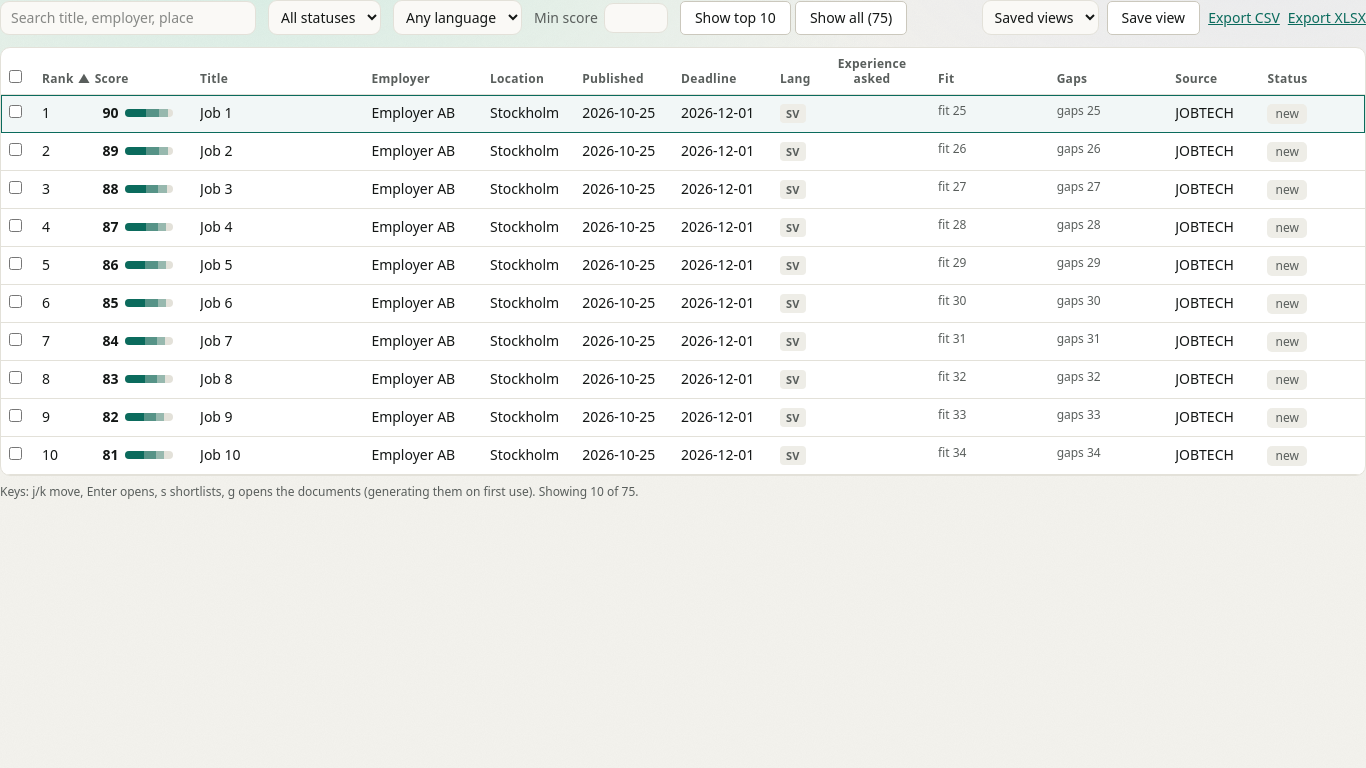
Test case: results table › shows the top N by default and all on request, repeatedly, with a counter that matches
The width and height of the screenshot is (1366, 768).
Click the button "Show all (75)": {"x": 851, "y": 18} [795, 0, 907, 34]
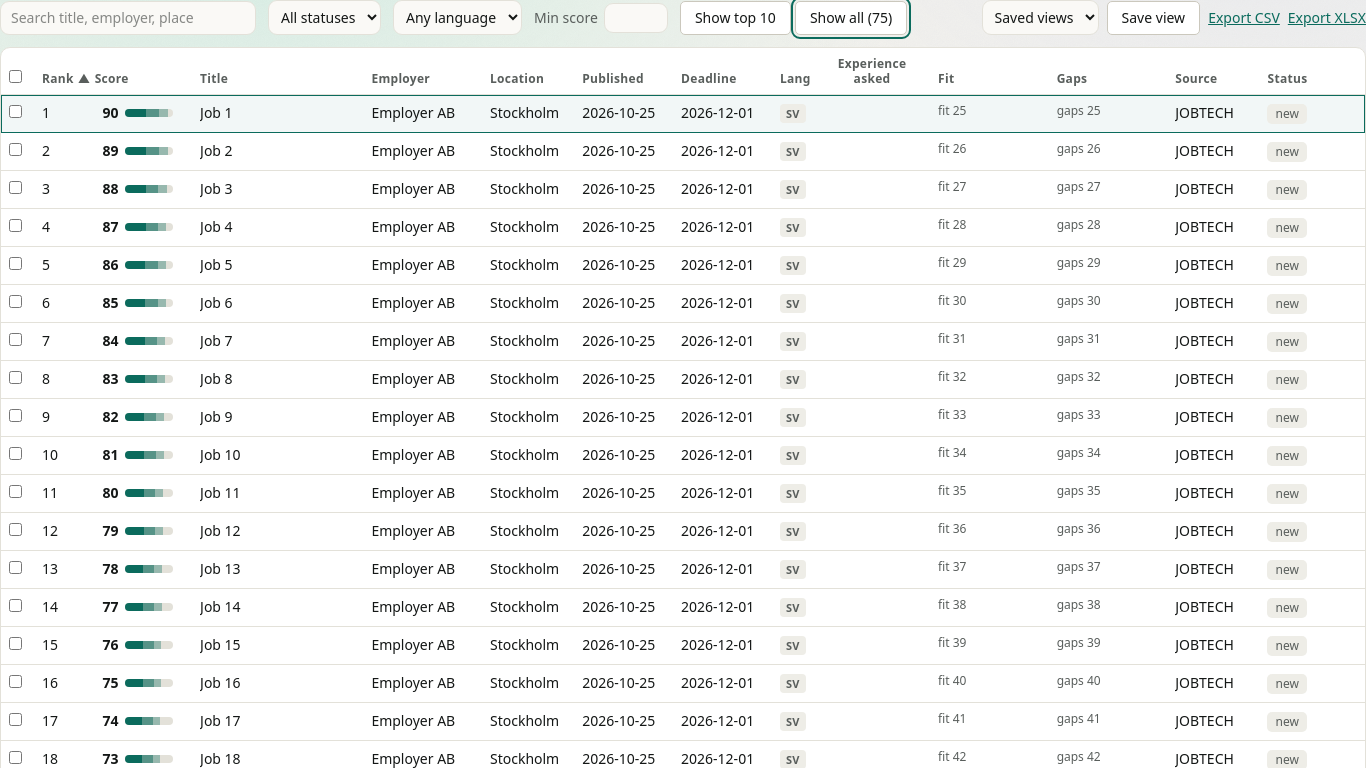
Click the button "Show top 10": {"x": 735, "y": 18} [680, 0, 791, 34]
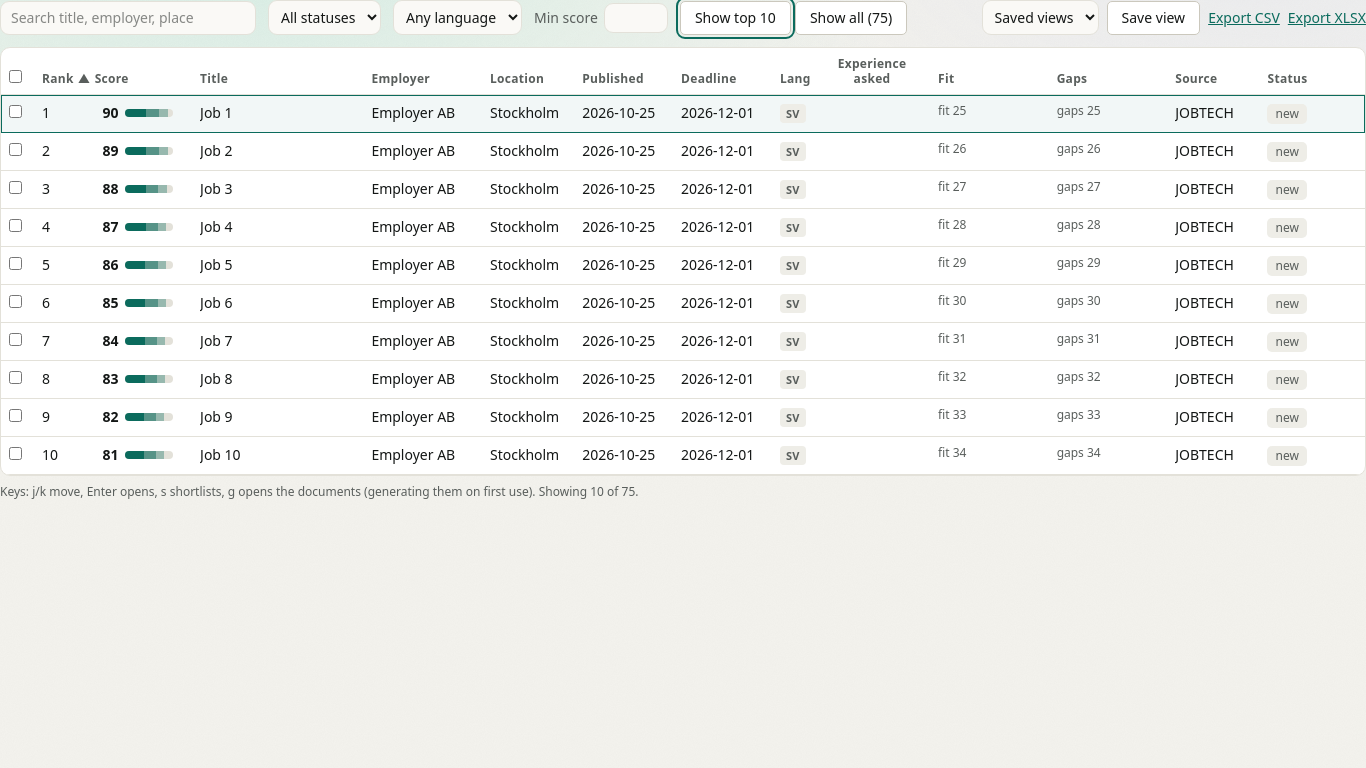
Now the text "Showing 10 of 75" is shown, box [0, 483, 638, 500]
Click the button "Show all (75)": {"x": 851, "y": 18} [795, 0, 907, 34]
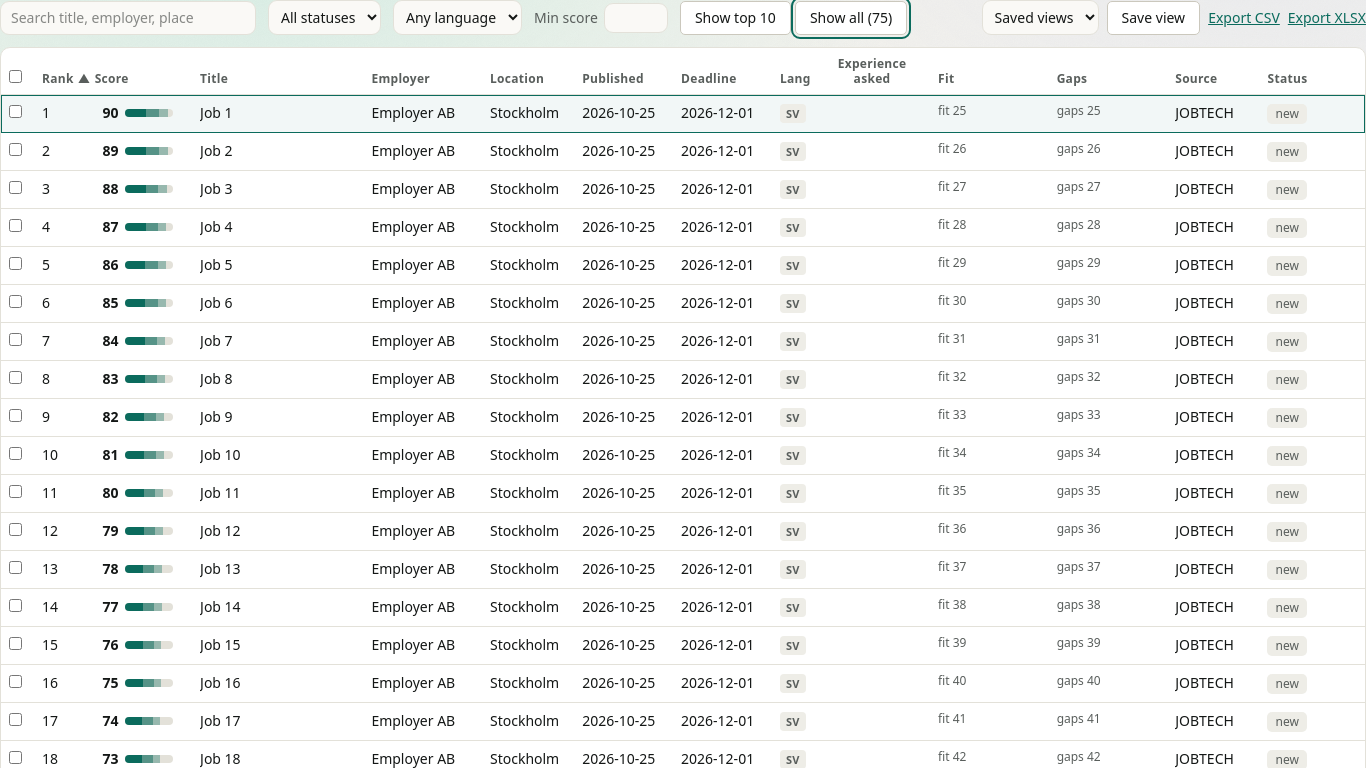
Click the button "Show top 10": {"x": 735, "y": 18} [680, 0, 791, 34]
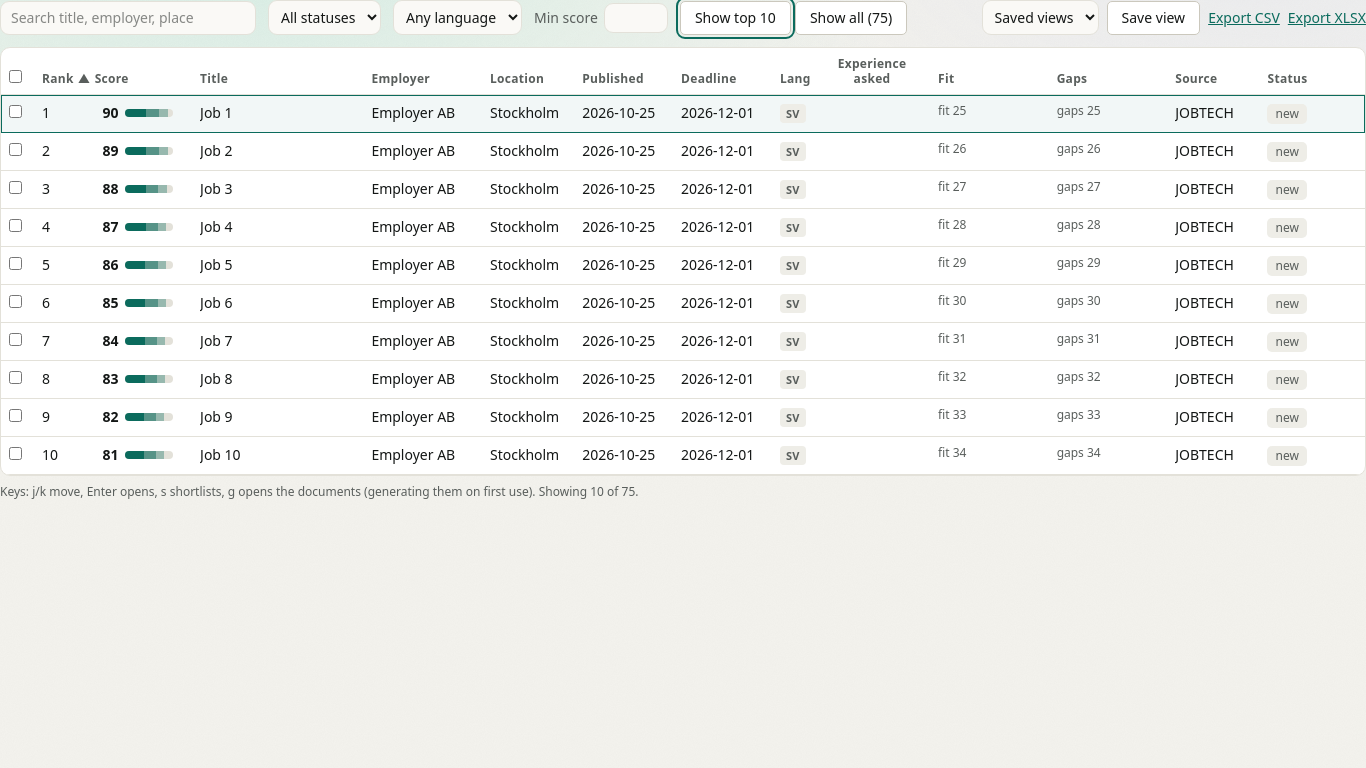
Now the text "Showing 10 of 75" is shown, box [0, 483, 638, 500]
Click the button "Show all (75)": {"x": 851, "y": 18} [795, 0, 907, 34]
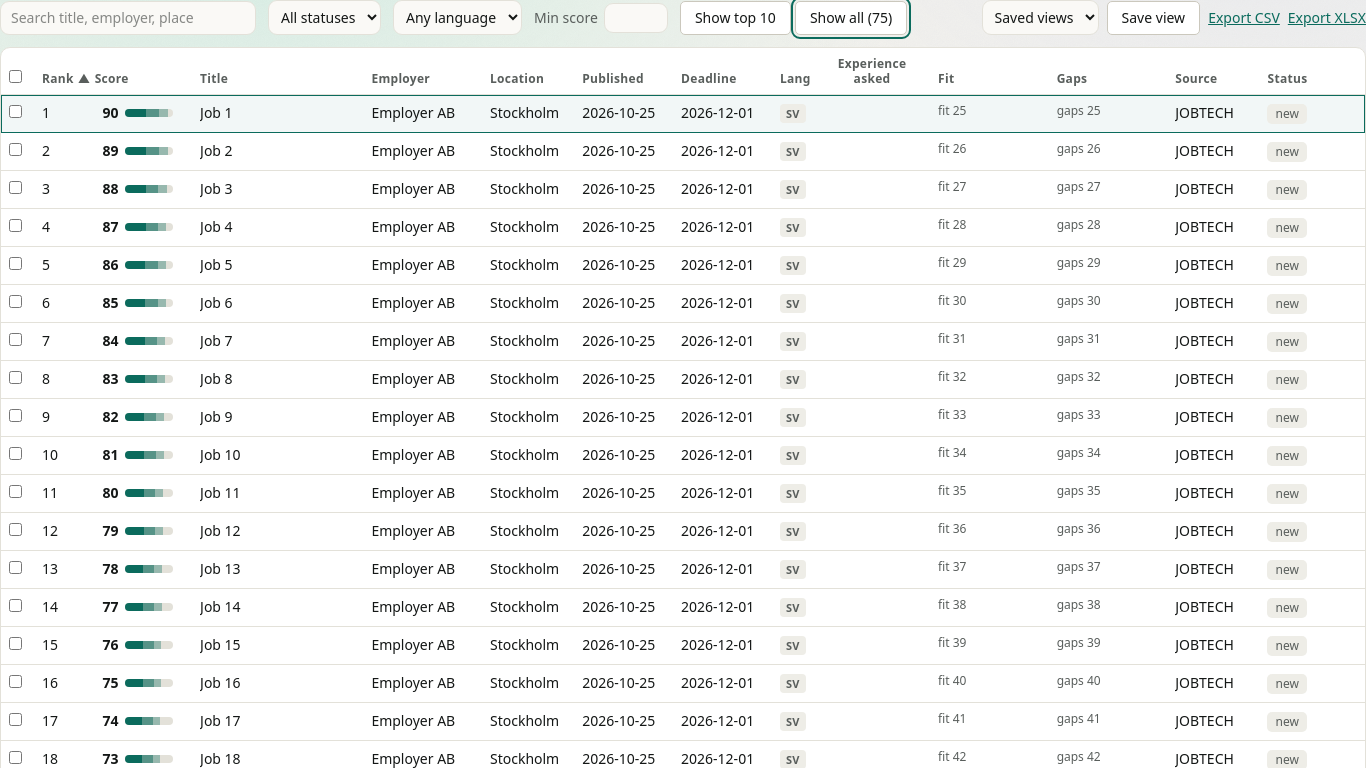
Click the button "Show top 10": {"x": 735, "y": 18} [680, 0, 791, 34]
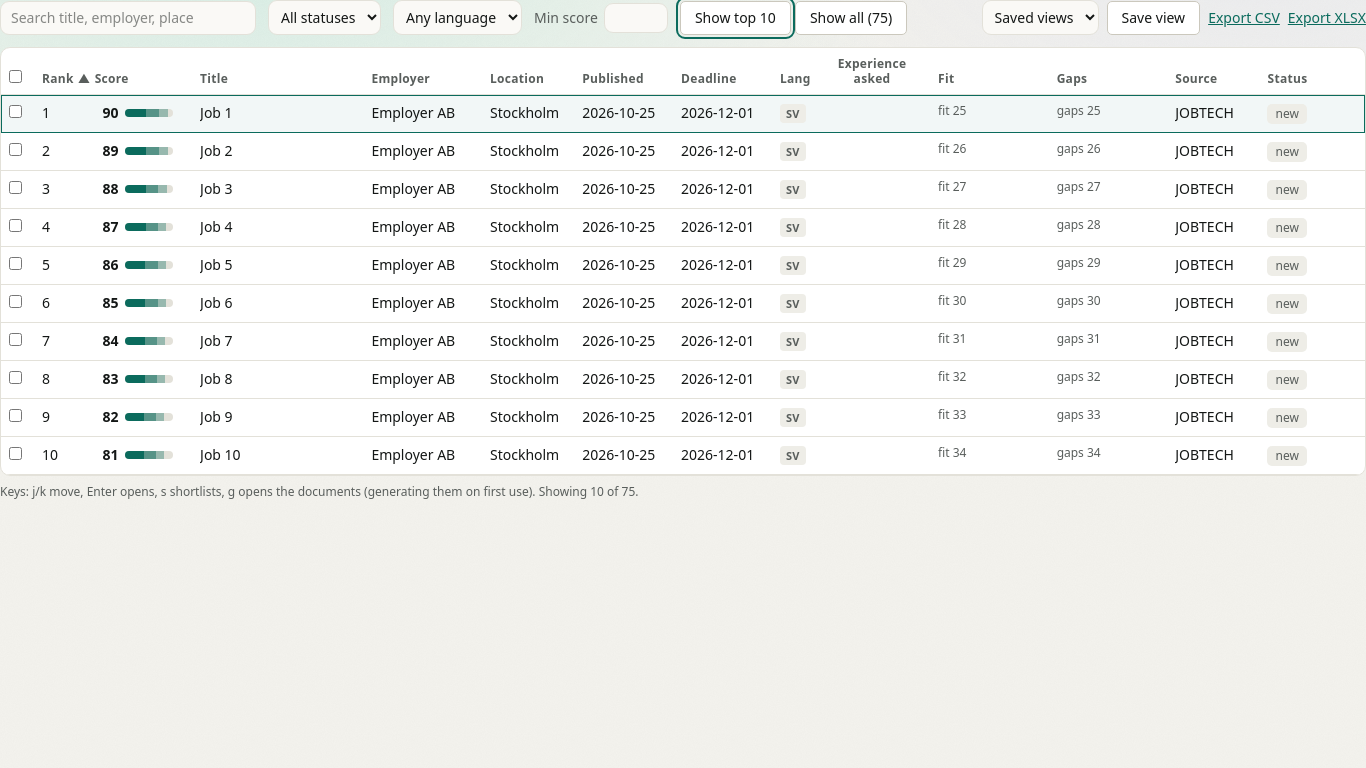
Now the text "Showing 10 of 75" is shown, box [0, 483, 638, 500]
